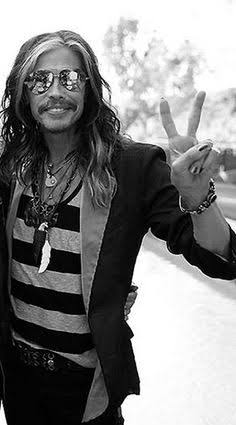peace_sign: (157, 84, 221, 198)
